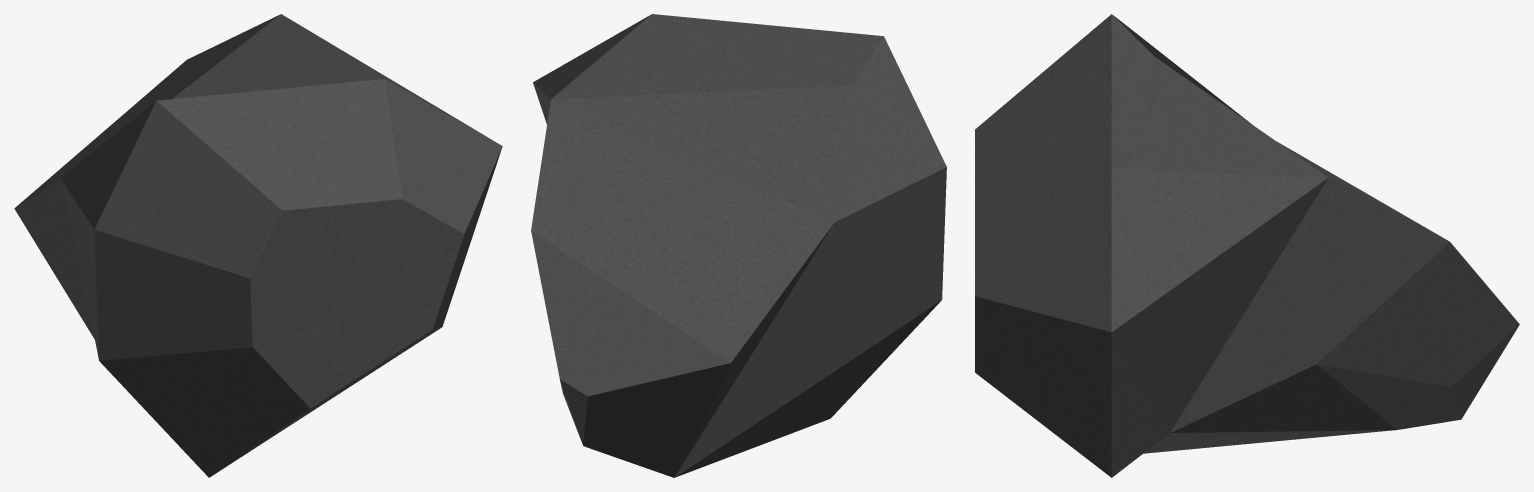
File: all_share_rock_2.FBX
3 renders of one model, left to right at view 1: azimuth 30°, elevation 25°; view 2: azimuth 150°, elevation 25°; view 3: azimuth 270°, elevation 25°, orthographic. The views are drawn at different scales.
Parts seen in each view (by area): view 1: rock_3; view 2: rock_3; view 3: rock_3.
Part boxes in pixels (box(x1,y1,x2,y2)): rock_3: box(14, 14, 502, 477); rock_3: box(531, 14, 946, 477); rock_3: box(975, 14, 1519, 477).
Bounding box in the file's own units: 312 × 285 × 339.
